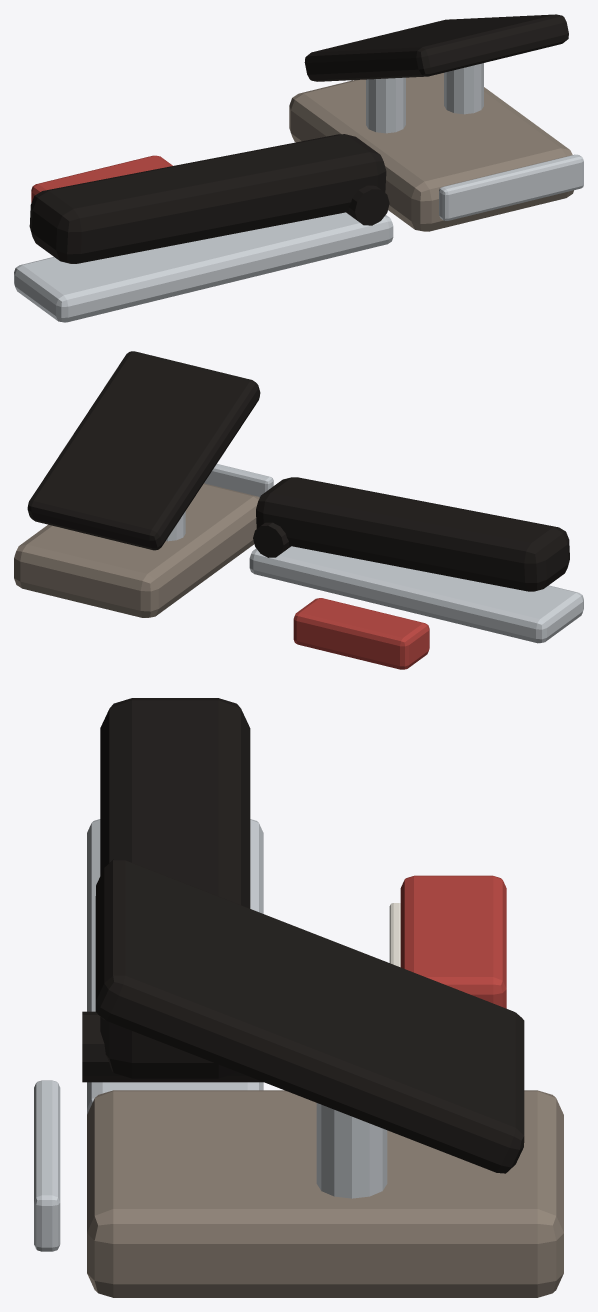
File: hh_cat_stapler_set.glb
3 renders of one model, top to bottom at view 1: azimuth 30°, elevation 25°; view 2: azimuth 150°, elevation 25°; view 3: azimuth 270°, elevation 25°, orthographic. The views are drawn at different scales.
Parts seen in each view (by area): view 1: stapler_arm, punch_body, stapler_base, punch_lever, paper_guide, punch_post, punch_post.001, staple_pack, stapler_hinge; view 2: punch_lever, stapler_arm, punch_body, stapler_base, staple_pack, paper_guide, stapler_hinge; view 3: punch_body, punch_lever, stapler_arm, staple_pack, punch_post.001, stapler_base, paper_guide, stapler_hinge.
Boxes of the visible parts, left/top/right/bottom form: stapler_arm: left=29, top=134, right=386, bottom=263; punch_body: left=289, top=73, right=573, bottom=231; stapler_base: left=14, top=212, right=393, bottom=322; punch_lever: left=304, top=14, right=568, bottom=81; paper_guide: left=439, top=154, right=583, bottom=220; punch_post: left=366, top=77, right=405, bottom=133; punch_post.001: left=444, top=63, right=483, bottom=114; staple_pack: left=31, top=155, right=172, bottom=202; stapler_hinge: left=346, top=185, right=389, bottom=225; punch_lever: left=27, top=351, right=260, bottom=550; stapler_arm: left=256, top=477, right=569, bottom=591; punch_body: left=14, top=483, right=259, bottom=617; stapler_base: left=249, top=546, right=583, bottom=643; staple_pack: left=293, top=598, right=429, bottom=669; paper_guide: left=204, top=464, right=273, bottom=497; stapler_hinge: left=253, top=522, right=290, bottom=557; punch_body: left=87, top=1090, right=563, bottom=1297; punch_lever: left=95, top=858, right=524, bottom=1173; stapler_arm: left=100, top=698, right=250, bottom=1078; staple_pack: left=400, top=875, right=506, bottom=1008; punch_post.001: left=316, top=1103, right=387, bottom=1198; stapler_base: left=87, top=819, right=263, bottom=1114; paper_guide: left=34, top=1080, right=60, bottom=1251; stapler_hinge: left=82, top=1011, right=263, bottom=1082.
Bounding box in the file's own units: 0.24 × 0.08 × 0.12.
